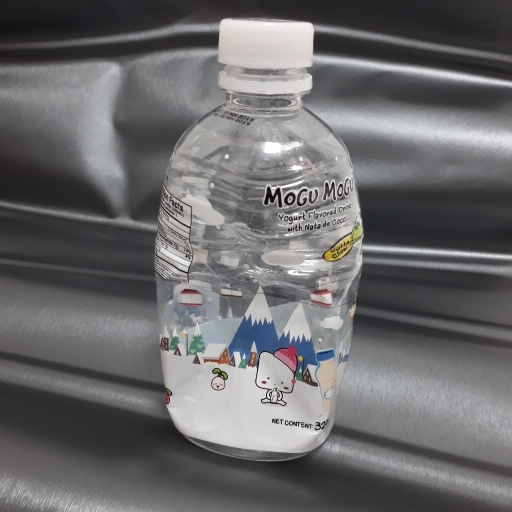Plastic_0: (152, 14, 363, 458)
